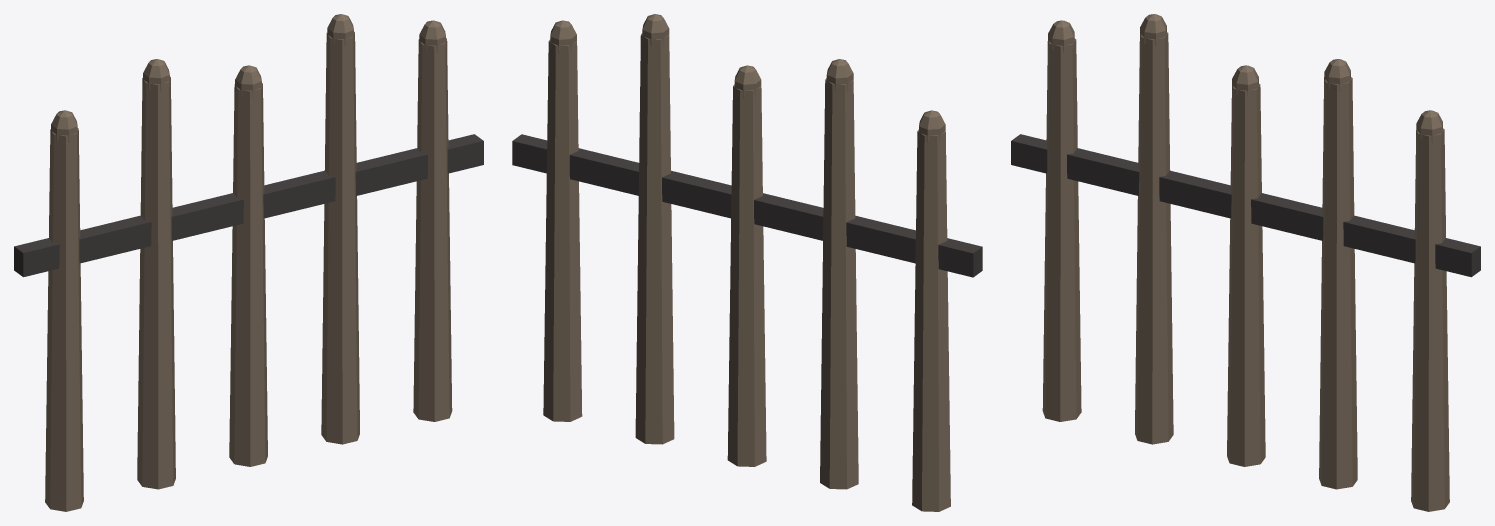
Rendered from Palisade.fbx.
The picture shows the model from 3 angles, left to right: view 1: azimuth 30°, elevation 25°; view 2: azimuth 150°, elevation 25°; view 3: azimuth 330°, elevation 25°; orthographic projection.
Visible parts, largest first — view 1: Palisade; view 2: Palisade; view 3: Palisade.
Part boxes in pixels (x1,y1,x2,y2): Palisade: [14, 14, 483, 511]; Palisade: [512, 14, 982, 511]; Palisade: [1011, 14, 1480, 511].
Bounding box in the file's own units: 200 × 175 × 14.26.
